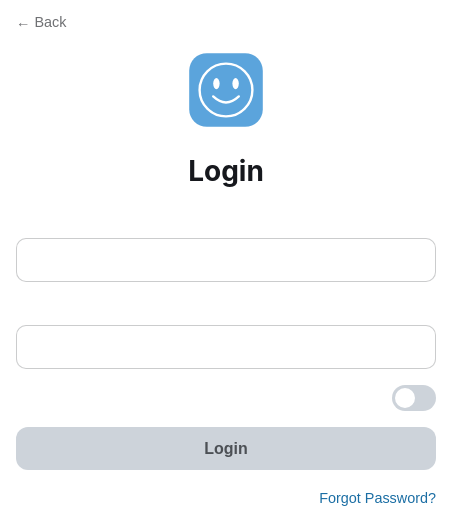
Test: login button is enabled when both fields are filled
Type "ada" into the field labelled "Username or Email" at (226, 260), box left=16, top=238, right=436, bottom=282
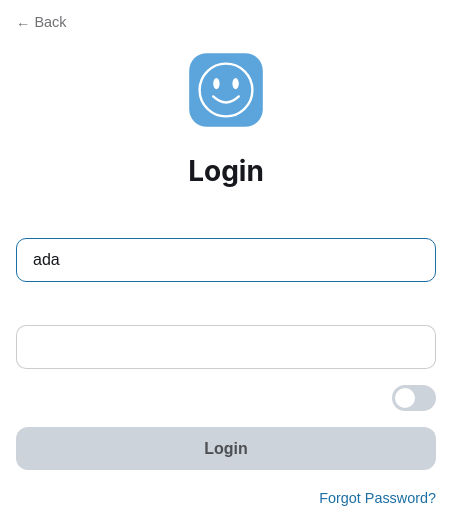
Type "pass" into the password field labelled "Password" at (226, 347), box left=16, top=325, right=436, bottom=369
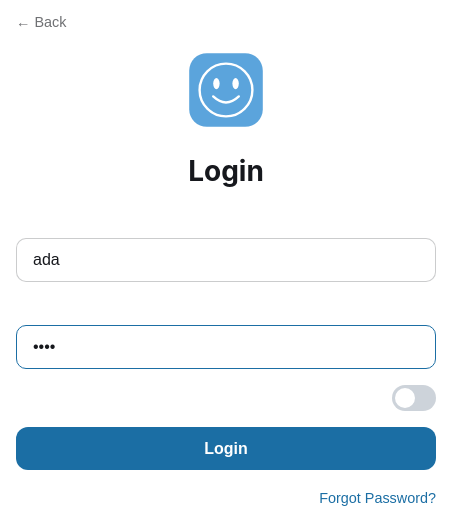
Expected: the button "Login" is enabled, left=16, top=427, right=436, bottom=470
